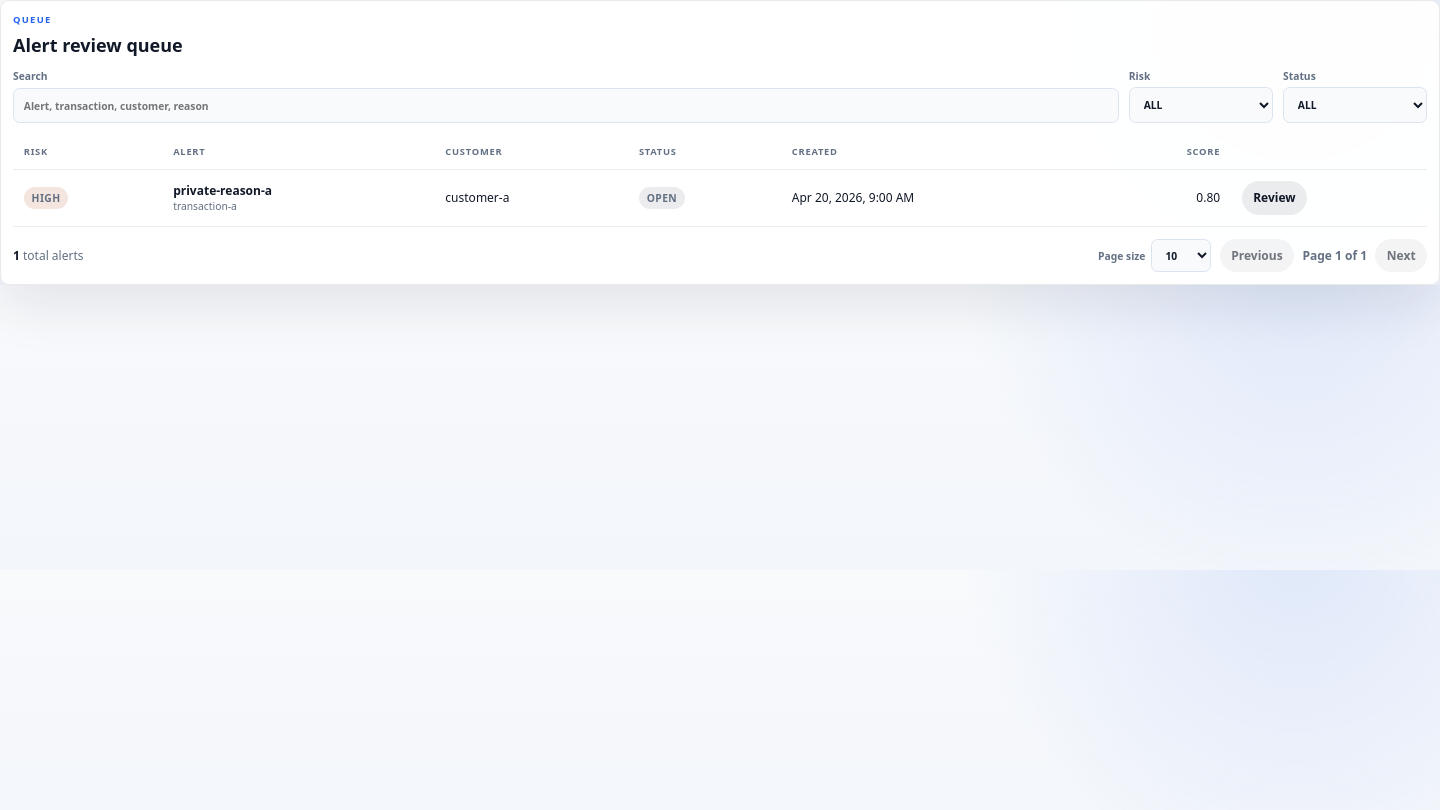
Scenario: transaction scoring read boundary with real provider, API client, hooks and views › preserves Alert Queue filter drafts across a same-owner manual refresh
Expected: the text "private-reason-a" is shown, [173,182,272,199]
Type "customer-a" into the field labelled "Search" at (566, 106), box [13,88,1119,123]
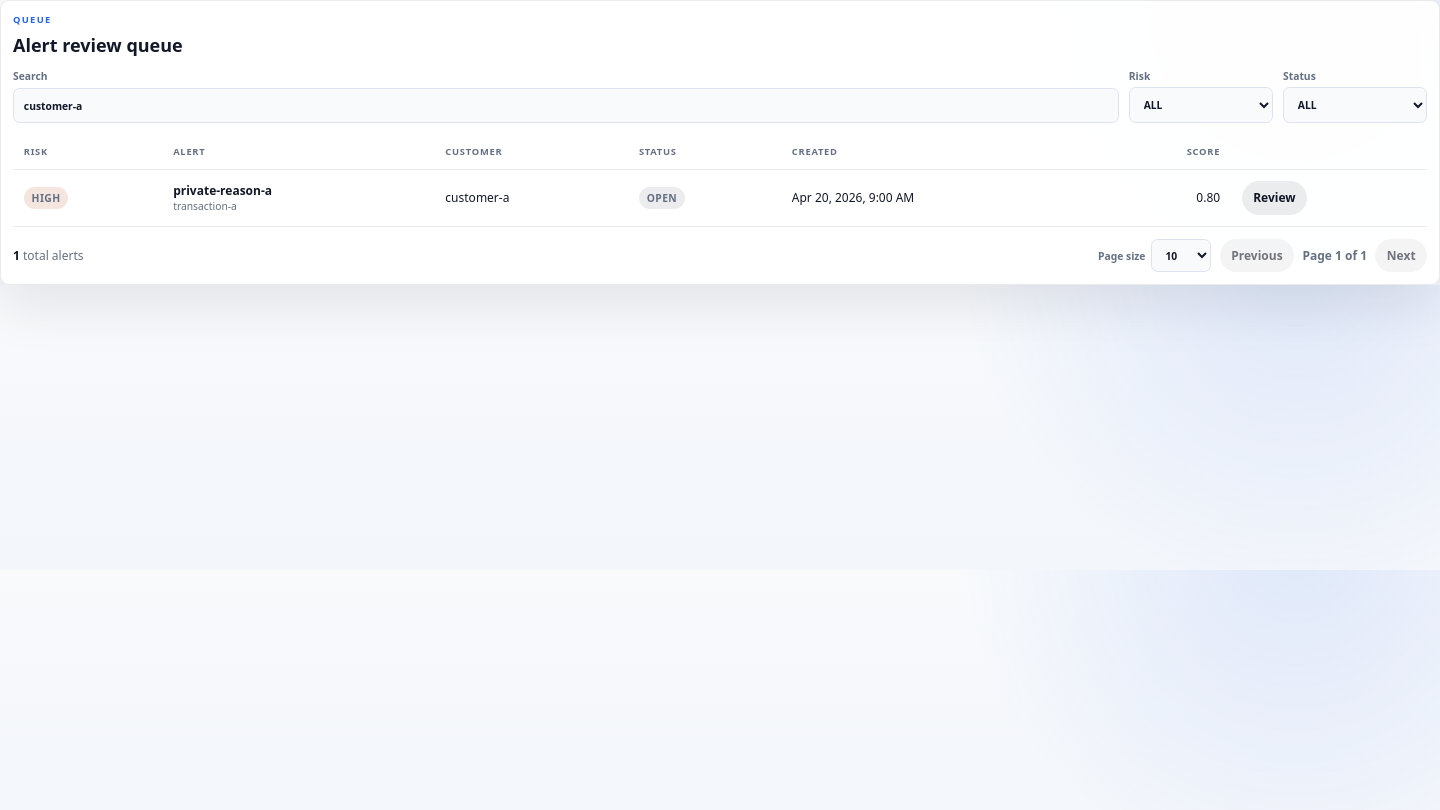
Select "HIGH" in the dropdown labelled "Risk" at (1201, 105), box [1129,87,1273,123]
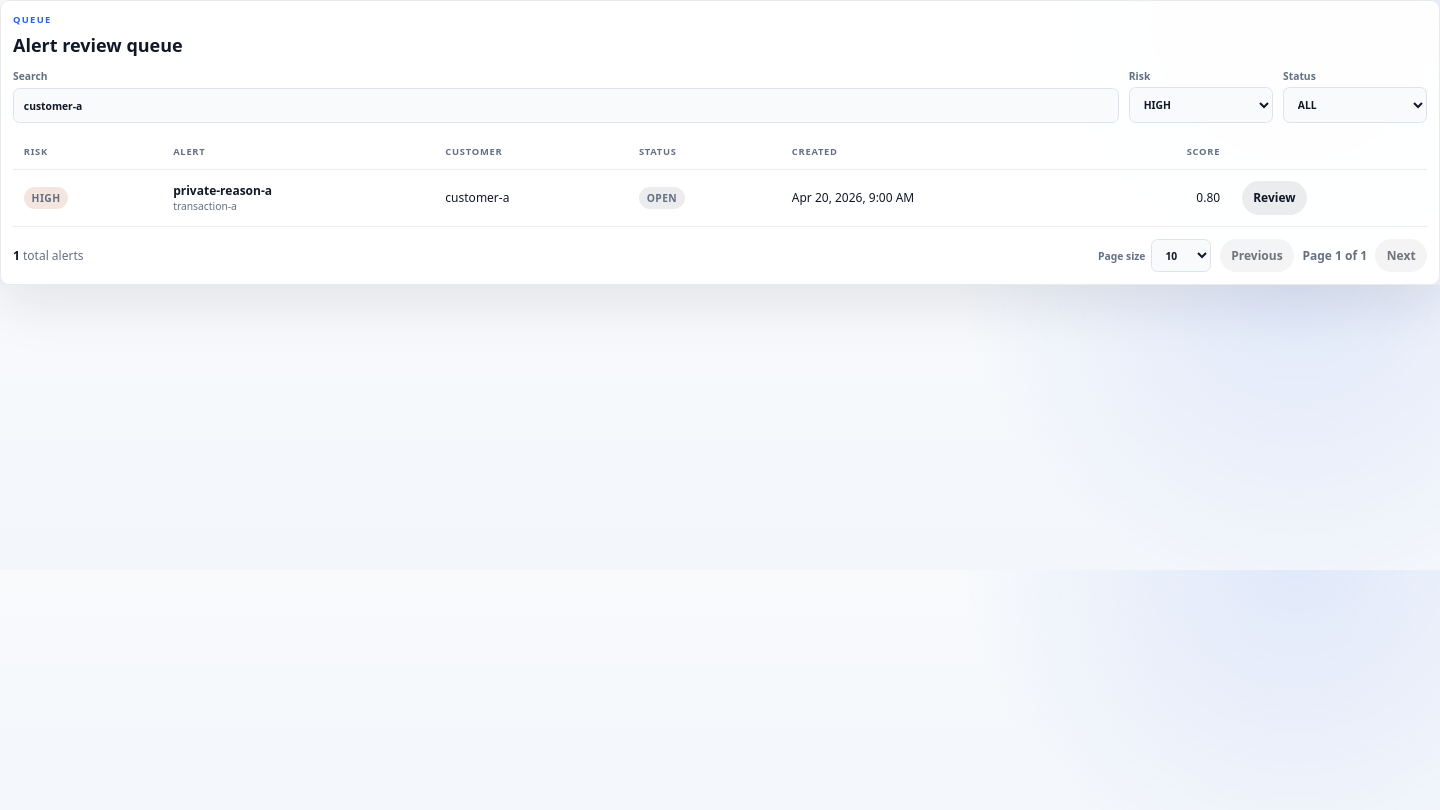
Select "OPEN" in the dropdown labelled "Status" at (1355, 105), box [1283,87,1427,123]
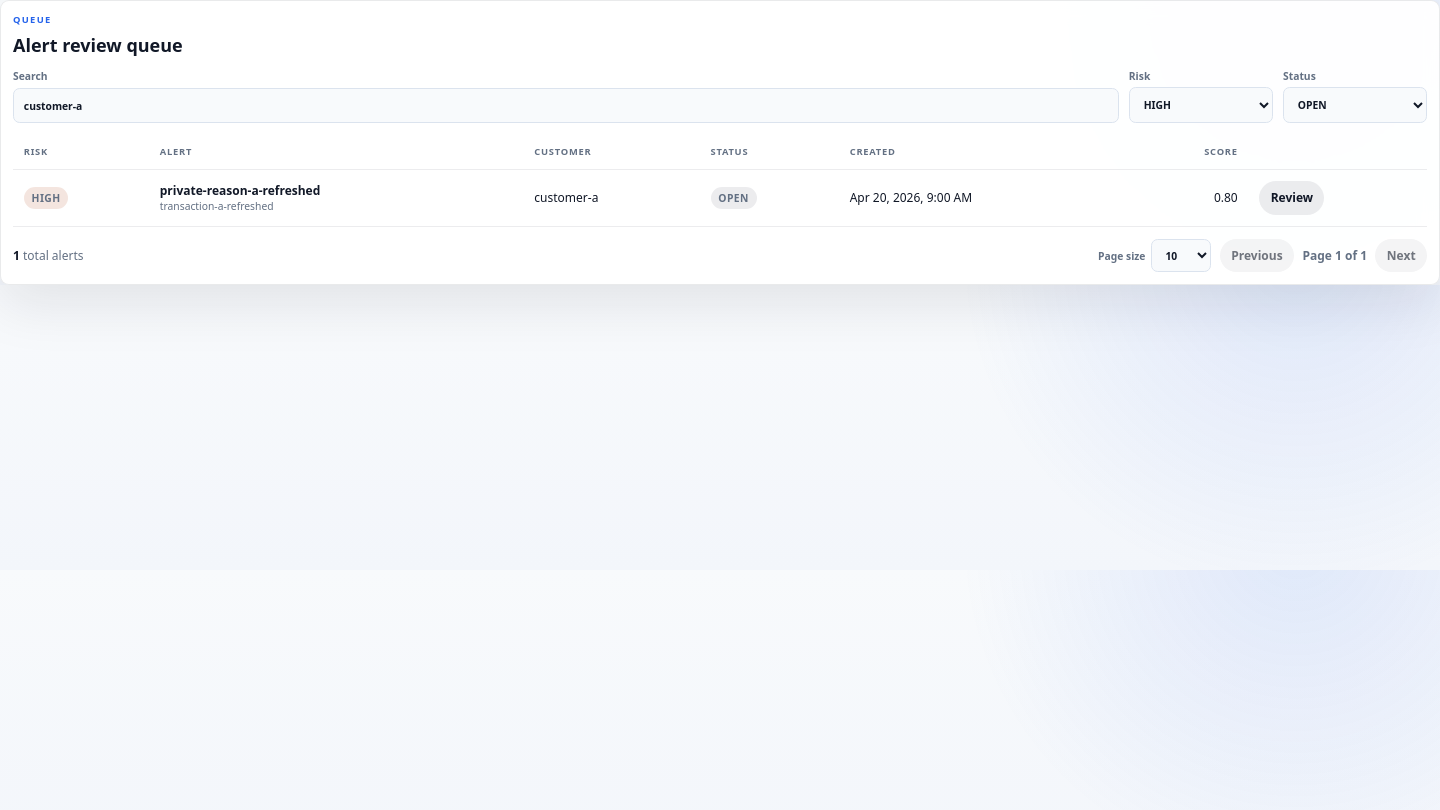
Expected: the text "private-reason-a-refreshed" is shown, [160,182,320,199]
